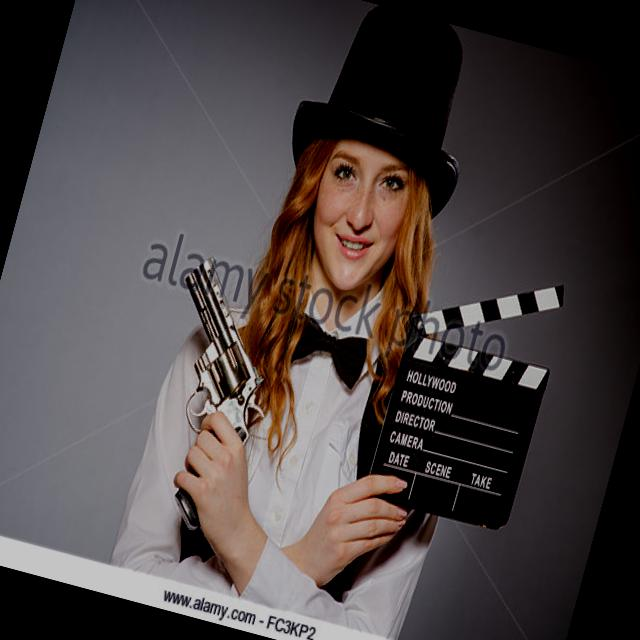handgun: (115, 250, 296, 542)
